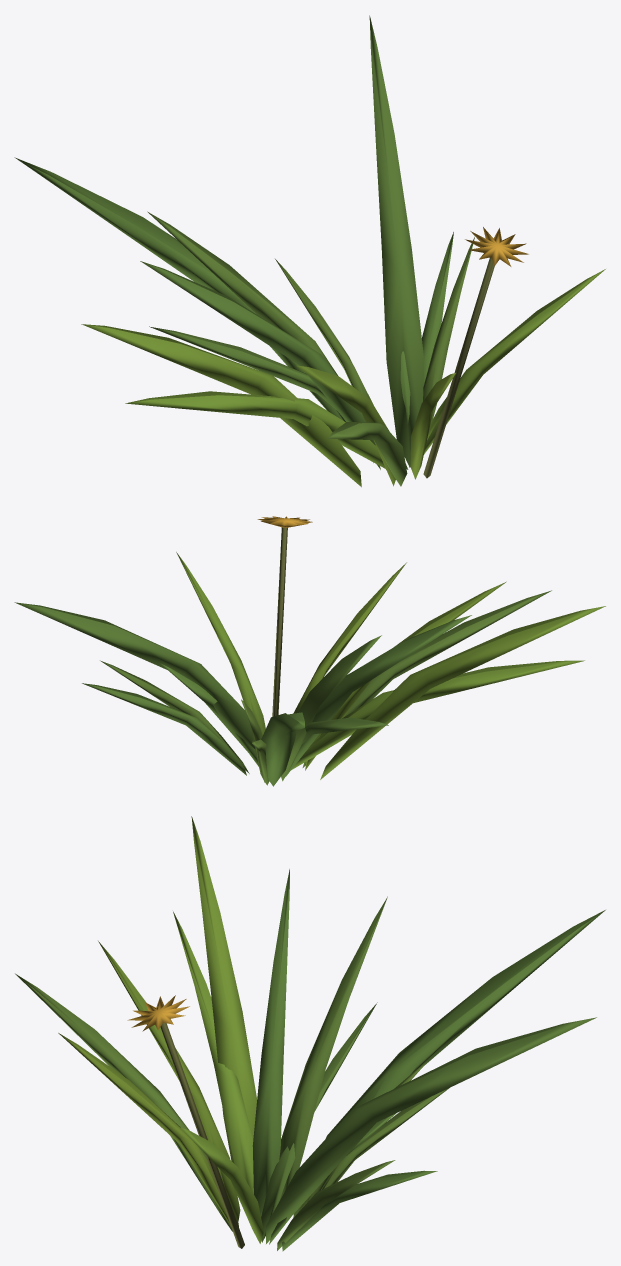
The model's file is tuft_dandelion.glb.
The picture shows the model from 3 angles, top to bottom: view 1: azimuth 30°, elevation 25°; view 2: azimuth 150°, elevation 25°; view 3: azimuth 270°, elevation 25°; orthographic projection. The views are drawn at different scales.
Parts seen in each view (by area): view 1: Sammel Pflanze, Sammel Putz; view 2: Sammel Pflanze, Sammel Putz; view 3: Sammel Pflanze, Sammel Putz.
Part boxes in pixels (left/top/right/bottom): Sammel Pflanze: left=14, top=15, right=605, bottom=487; Sammel Putz: left=423, top=257, right=494, bottom=478; Sammel Pflanze: left=14, top=516, right=605, bottom=786; Sammel Putz: left=272, top=527, right=287, bottom=716; Sammel Pflanze: left=15, top=816, right=605, bottom=1251; Sammel Putz: left=160, top=1022, right=244, bottom=1248.
Bounding box in the file's own units: 0.2831 × 0.1551 × 0.2871.
